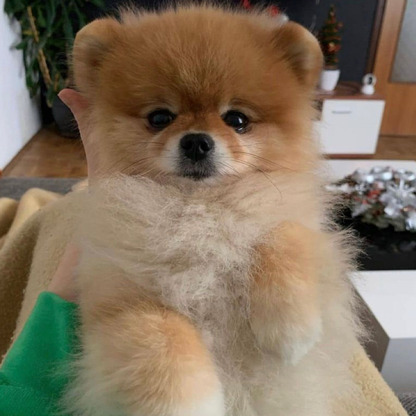Pomeranian: (67, 19, 366, 399)
